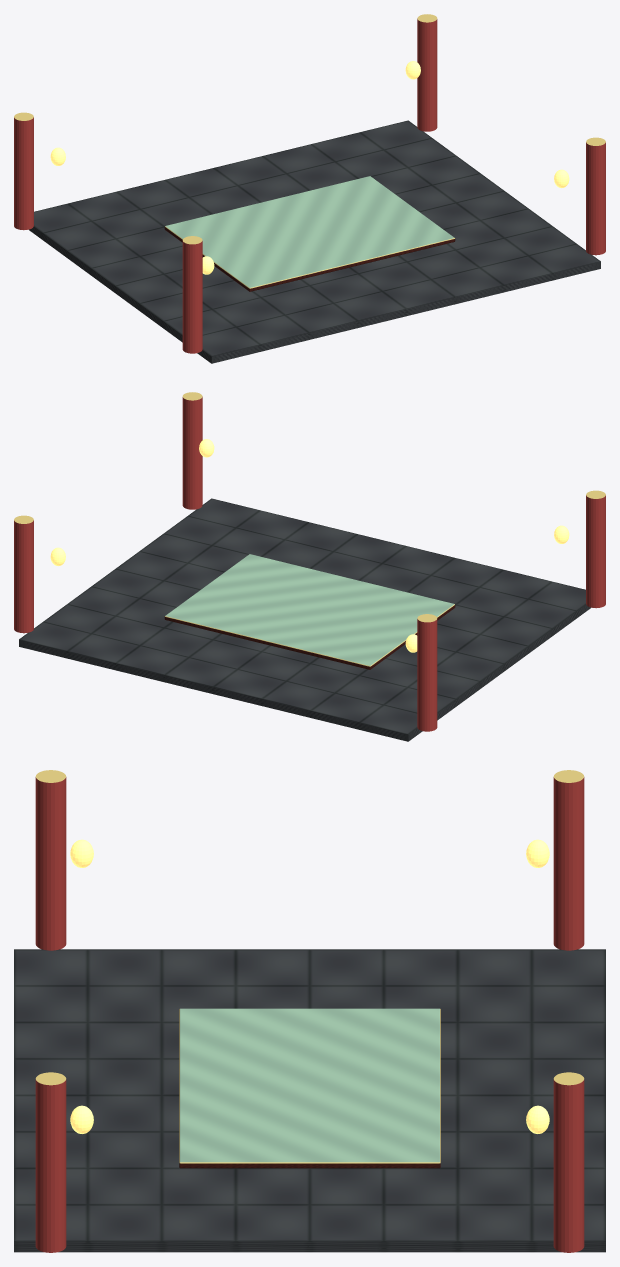
File: temple_environment.glb
The picture shows the model from 3 angles, top to bottom: view 1: azimuth 30°, elevation 25°; view 2: azimuth 150°, elevation 25°; view 3: azimuth 270°, elevation 25°; orthographic projection. The views are drawn at different scales.
Visible parts, largest first — view 1: Temple_Stone_Pavement, Low_Rosewood_Jade_Table, Temple_Crimson_Pillar_1, Temple_Crimson_Pillar_4, Temple_Crimson_Pillar_2, Temple_Crimson_Pillar_3; view 2: Temple_Stone_Pavement, Low_Rosewood_Jade_Table, Temple_Crimson_Pillar_3, Temple_Crimson_Pillar_2, Temple_Crimson_Pillar_4, Temple_Crimson_Pillar_1; view 3: Temple_Stone_Pavement, Low_Rosewood_Jade_Table, Temple_Crimson_Pillar_1, Temple_Crimson_Pillar_2, Temple_Crimson_Pillar_3, Temple_Crimson_Pillar_4.
Boxes of the visible parts, <box> form: Temple_Stone_Pavement: <box>29,120,600,363</box>; Low_Rosewood_Jade_Table: <box>164,176,455,291</box>; Temple_Crimson_Pillar_1: <box>182,236,202,353</box>; Temple_Crimson_Pillar_4: <box>417,14,437,131</box>; Temple_Crimson_Pillar_2: <box>586,137,605,255</box>; Temple_Crimson_Pillar_3: <box>14,112,33,230</box>; Temple_Stone_Pavement: <box>19,498,590,741</box>; Low_Rosewood_Jade_Table: <box>164,554,455,669</box>; Temple_Crimson_Pillar_3: <box>417,614,437,731</box>; Temple_Crimson_Pillar_2: <box>182,392,202,509</box>; Temple_Crimson_Pillar_4: <box>14,515,33,633</box>; Temple_Crimson_Pillar_1: <box>586,490,605,608</box>; Temple_Stone_Pavement: <box>14,949,605,1252</box>; Low_Rosewood_Jade_Table: <box>179,1008,440,1168</box>; Temple_Crimson_Pillar_1: <box>35,770,66,950</box>; Temple_Crimson_Pillar_2: <box>35,1072,66,1252</box>; Temple_Crimson_Pillar_3: <box>553,770,584,950</box>; Temple_Crimson_Pillar_4: <box>553,1072,584,1252</box>.
Size of the model in its own units: 30.24 by 8 by 24.
6 materials, 3 textured.
